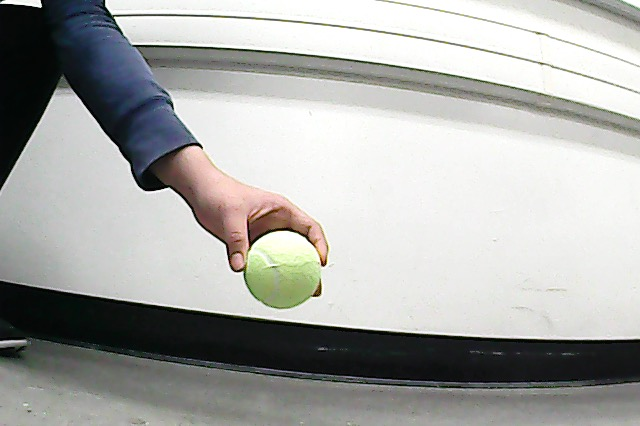ball: (240, 227, 327, 311)
